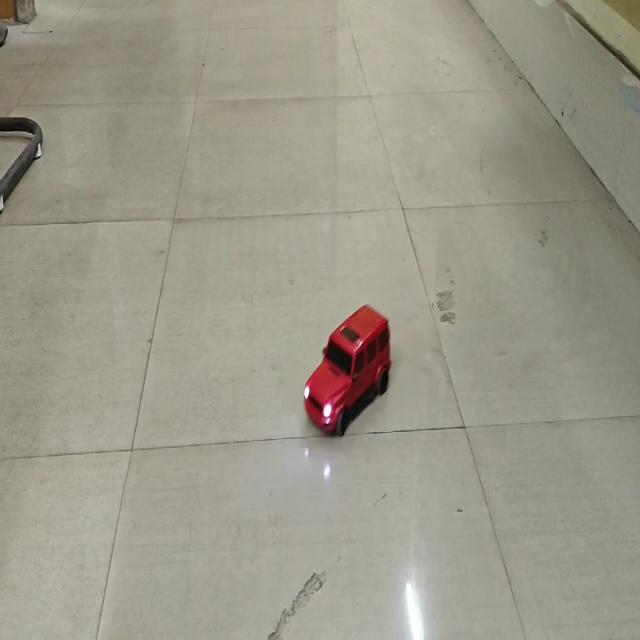light_vehicle: (292, 299, 393, 426)
